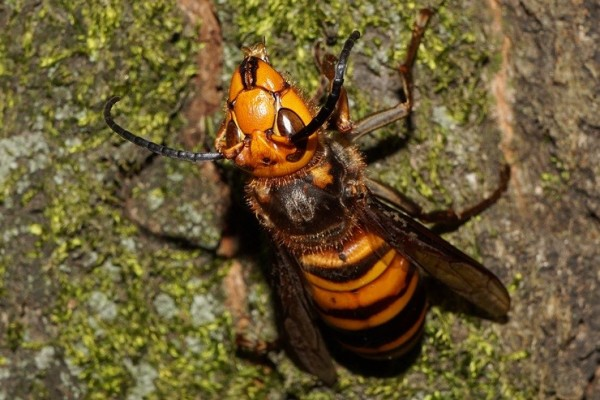asian_giant_hornet: (205, 27, 432, 375)
